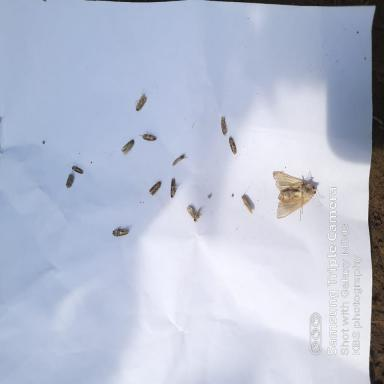abw: (272, 170, 324, 221)
pbw: (186, 204, 204, 222), (134, 89, 147, 111), (241, 192, 253, 214), (120, 138, 134, 155), (172, 152, 187, 167), (170, 176, 180, 198), (148, 180, 161, 196), (112, 226, 130, 237), (138, 130, 156, 141), (228, 136, 237, 154), (220, 115, 228, 135), (66, 173, 74, 189), (71, 164, 83, 174)
